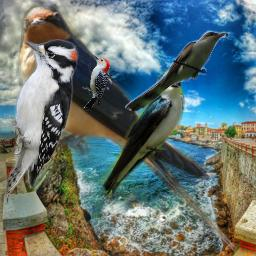Cuckoo: (125, 30, 228, 111)
Swallow: (17, 4, 239, 254), (99, 68, 186, 200)
Woodpecker: (4, 32, 85, 205), (82, 54, 110, 114)
